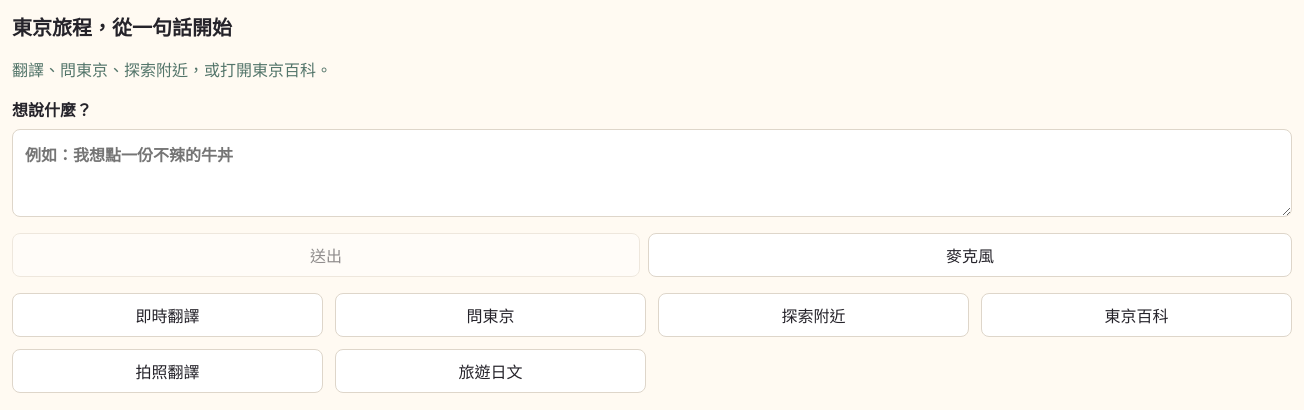
Test case: HomeScreen（Phase 9 Homepage Integration, FR-001） › 點擊「拍照翻譯」進入 PhotoTranslateScreen 且不自動觸發相機/相簿權限
Click the button "拍照翻譯".
click(168, 371)  # box [12,349,323,393]
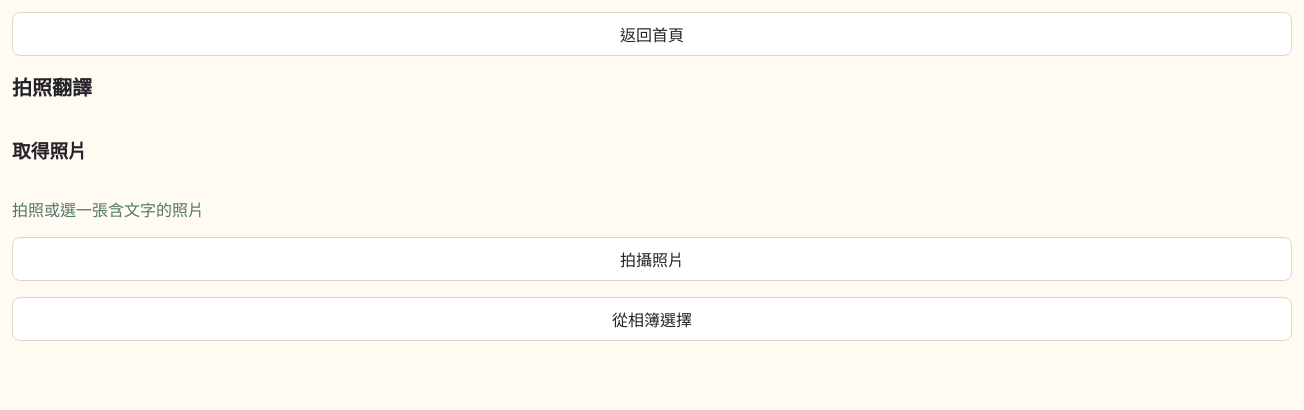
Expected: the button "拍攝照片" is shown, [12,237,1292,281]
Expected: the button "從相簿選擇" is shown, [12,297,1292,341]
